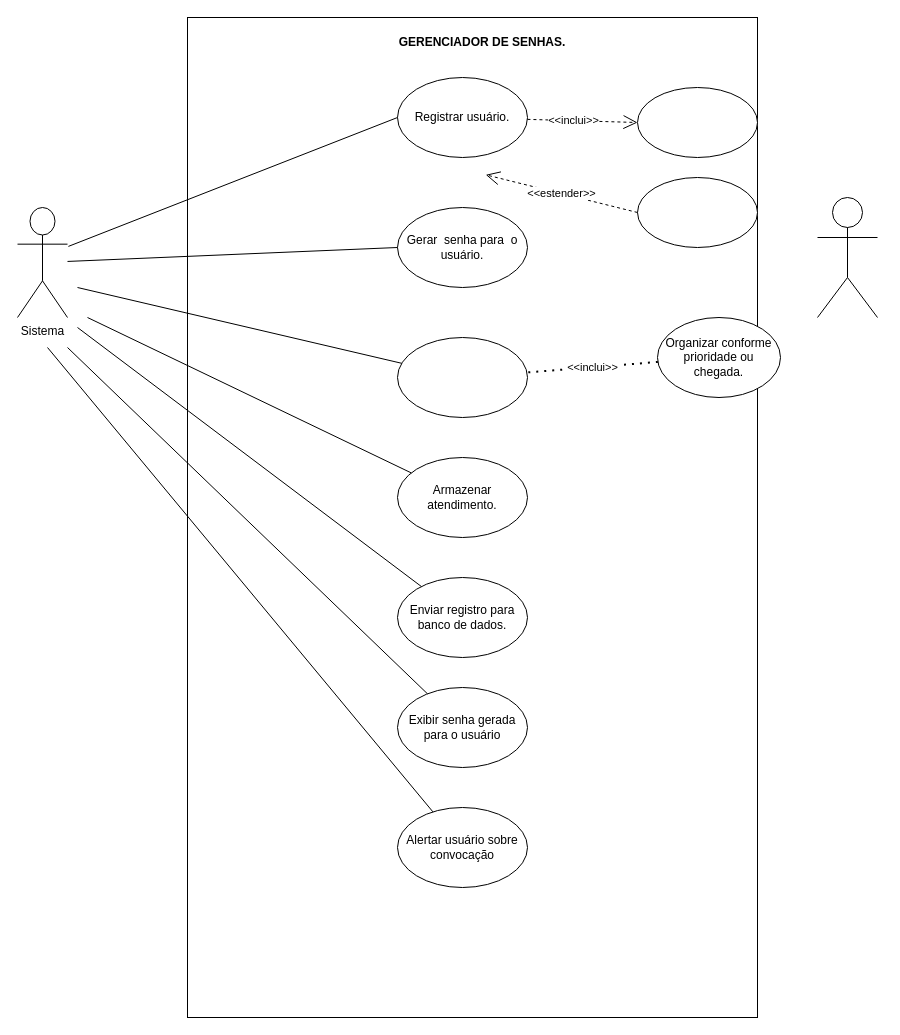
The diagram is 900 pixels wide and 1035 high, and some of its shapes have lost their labels. The centre of each missing label's shape, as x and y in pixels:
"Coordenador" belongs at point 847,257.
"Exibir erro de preenchimento." belongs at point 697,212.
"Gerenciar atendimentos" belongs at point 462,377.
"Verificar existência de prioridade" belongs at point 697,122.
